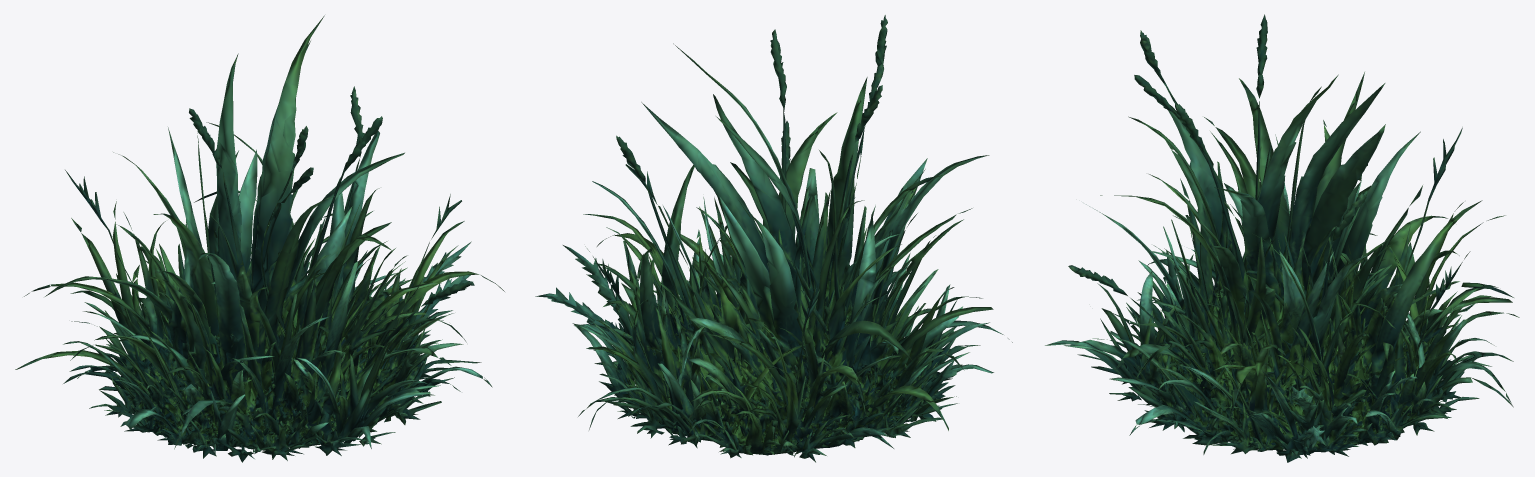
File: grass03.glb
3 renders of one model, left to right at view 1: azimuth 30°, elevation 25°; view 2: azimuth 150°, elevation 25°; view 3: azimuth 270°, elevation 25°, orthographic. The views are drawn at different scales.
Size of the model in its own units: 1.88 by 1.43 by 1.73.
1 material, 1 textured.
